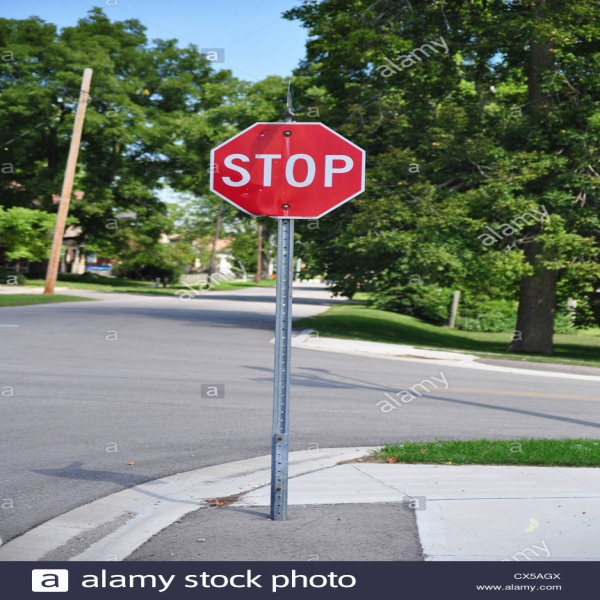stop: (206, 117, 369, 218)
